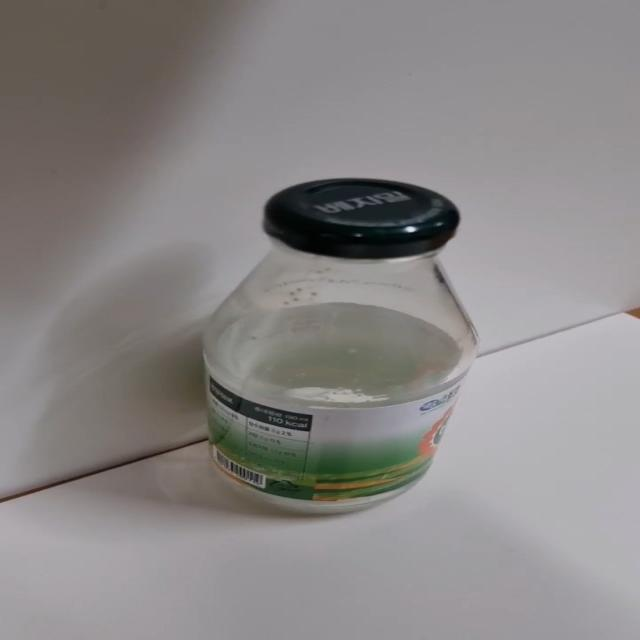Glass: (187, 172, 484, 521)
